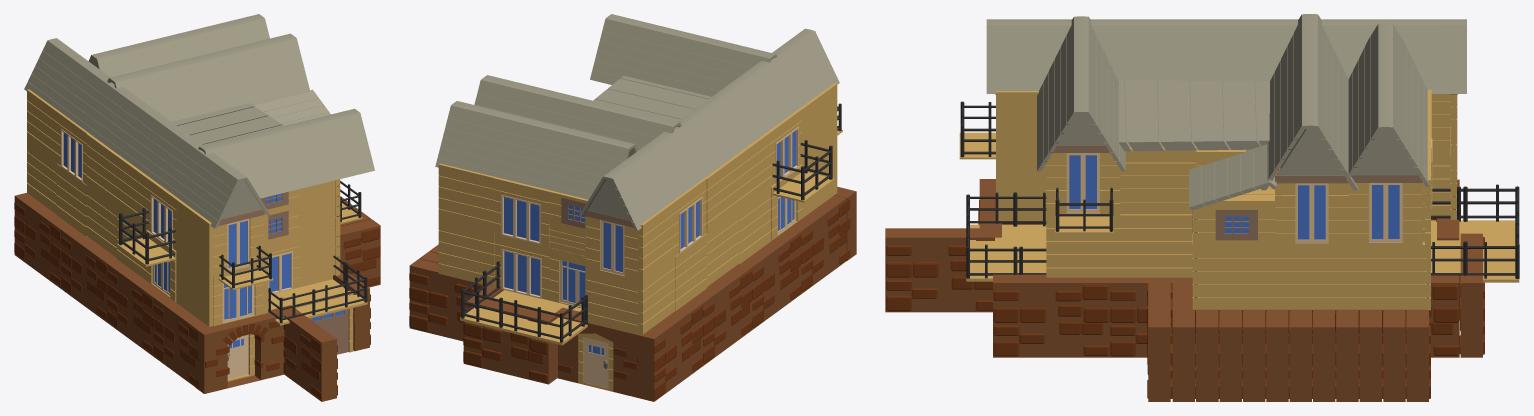
File: House_05.fbx
The picture shows the model from 3 angles, left to right: view 1: azimuth 30°, elevation 25°; view 2: azimuth 150°, elevation 25°; view 3: azimuth 270°, elevation 25°; orthographic projection. The views are drawn at different scales.
Visible parts, largest first — view 1: House_05; view 2: House_05; view 3: House_05.
Boxes of the visible parts, left/top/right/bottom form: House_05: left=14, top=14, right=380, bottom=401; House_05: left=409, top=14, right=856, bottom=401; House_05: left=885, top=14, right=1519, bottom=401.
Bounding box in the file's own units: 1600 × 1220 × 2659.
